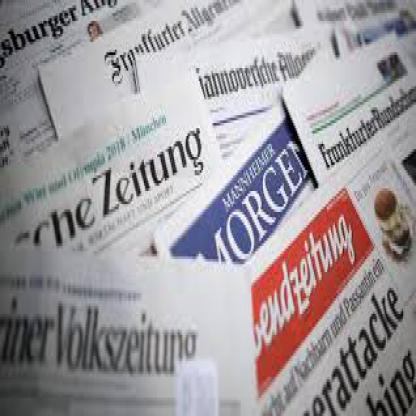paper: (247, 142, 415, 414), (0, 244, 249, 414), (1, 62, 222, 249), (0, 0, 233, 157), (37, 3, 294, 141), (152, 99, 318, 259), (131, 24, 332, 141), (278, 29, 414, 191), (292, 3, 414, 39)
